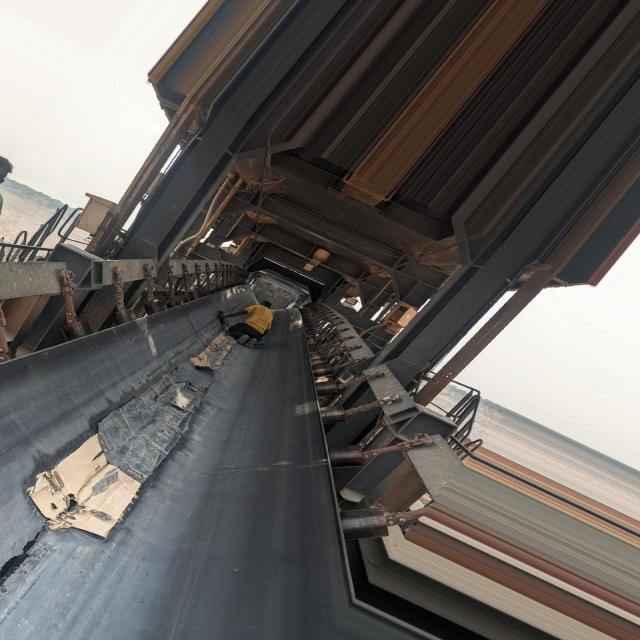Human: (219, 302, 273, 348)
Roller: (63, 286, 215, 340), (308, 334, 365, 467)
Tear: (1, 536, 41, 585)
patch work: (26, 361, 217, 539)
